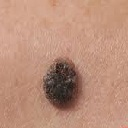Melanoma: (39, 57, 86, 110)
